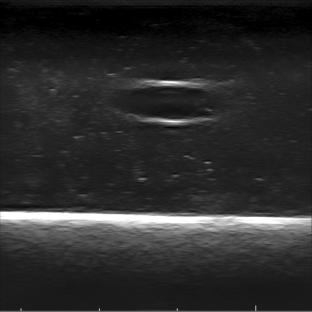vessel: (115, 80, 217, 126)
